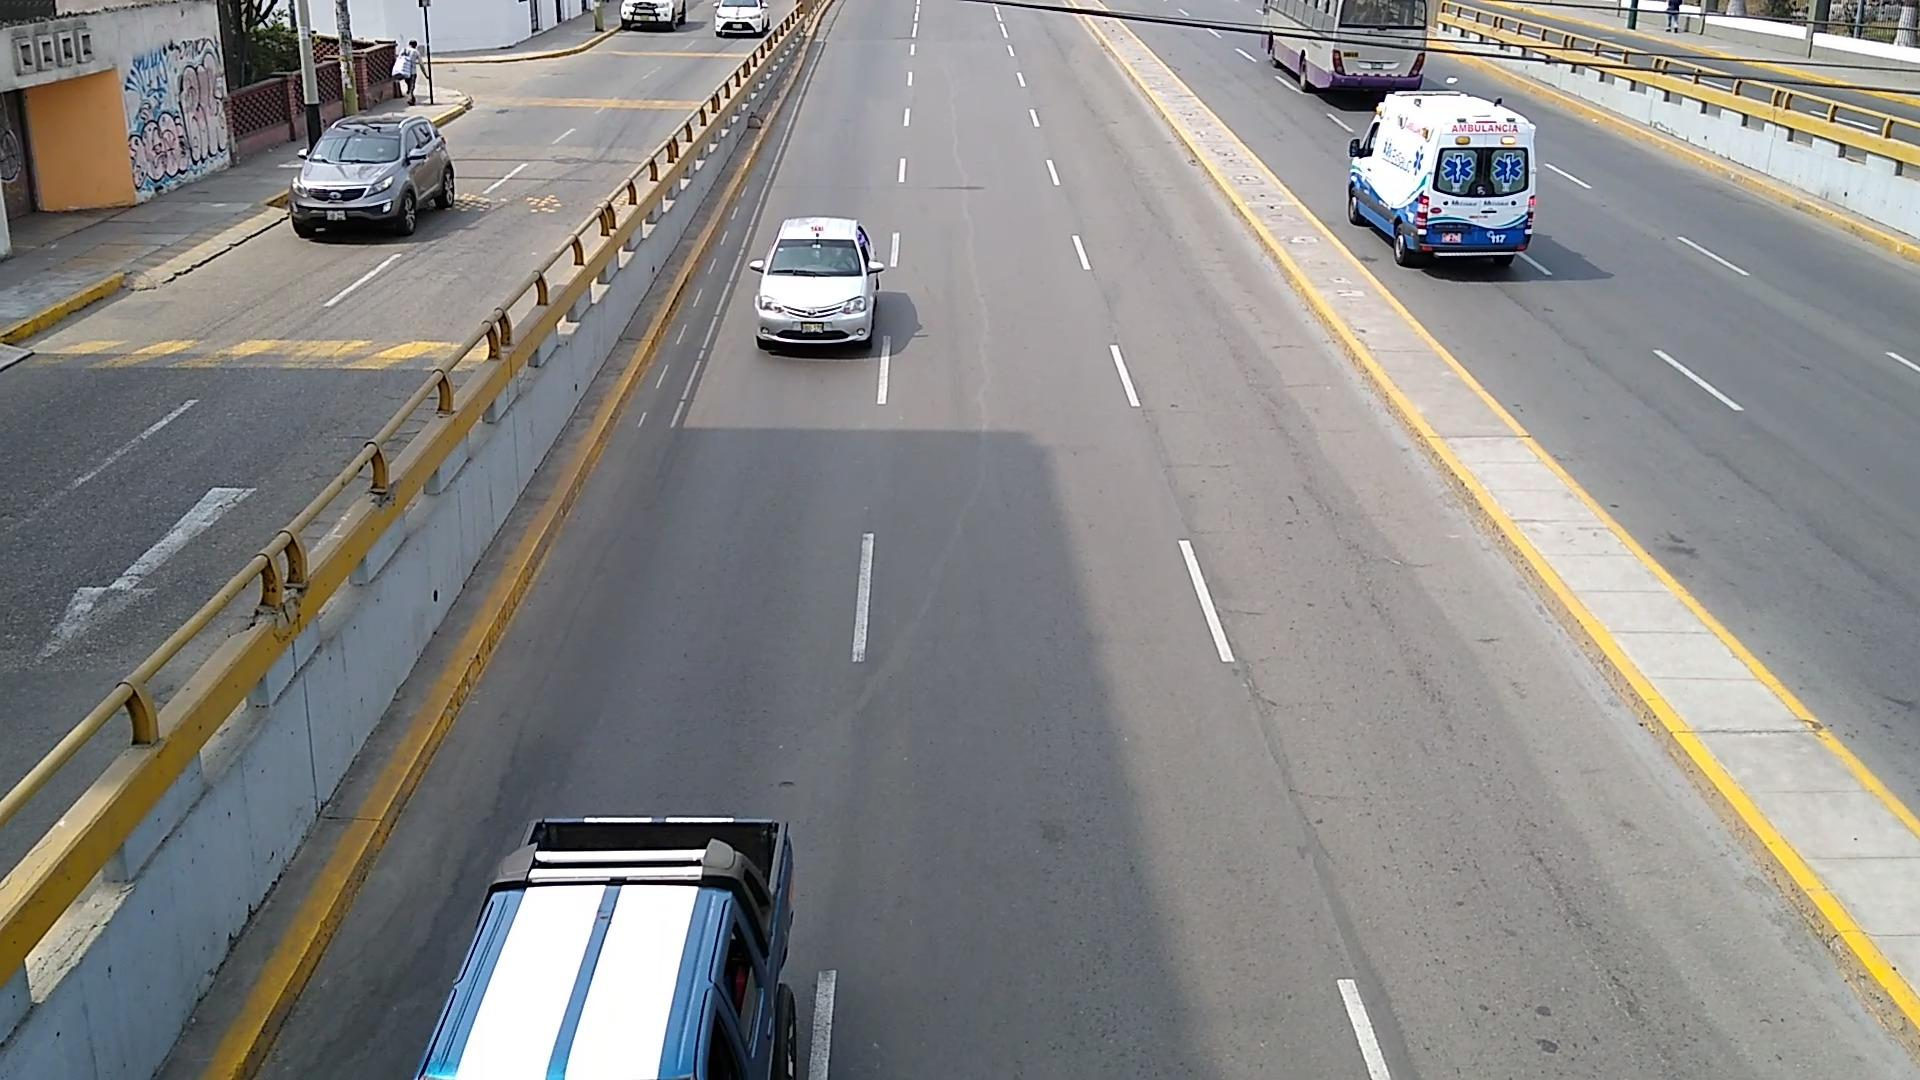bus: (1261, 0, 1436, 90)
car: (419, 818, 799, 1080), (289, 112, 454, 235), (750, 218, 885, 347), (716, 0, 769, 37), (622, 0, 686, 30)
minivan: (1346, 90, 1538, 266)
